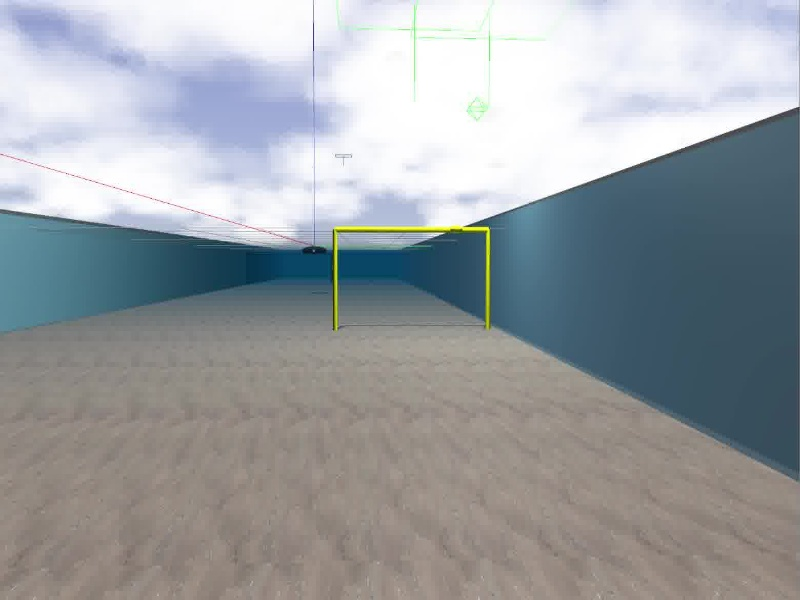gate: (331, 226, 491, 333)
